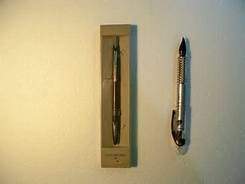pen: (170, 32, 191, 152), (110, 37, 127, 145)
